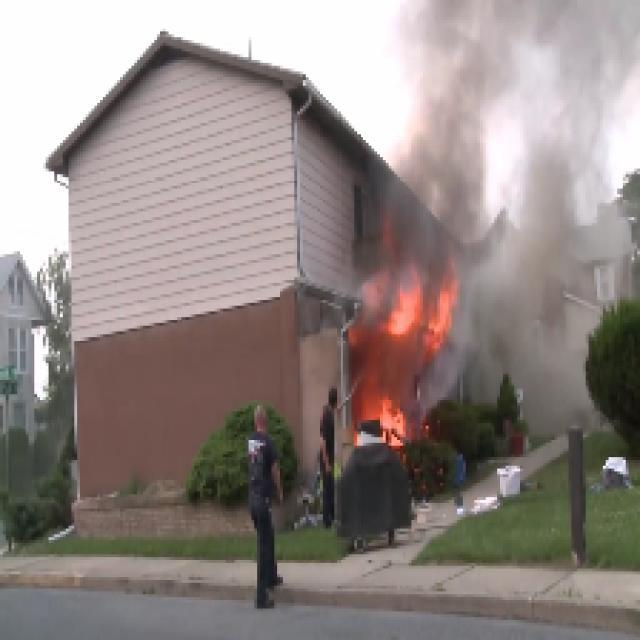Fire: (332, 226, 492, 514)
Smoke: (365, 2, 640, 248)
